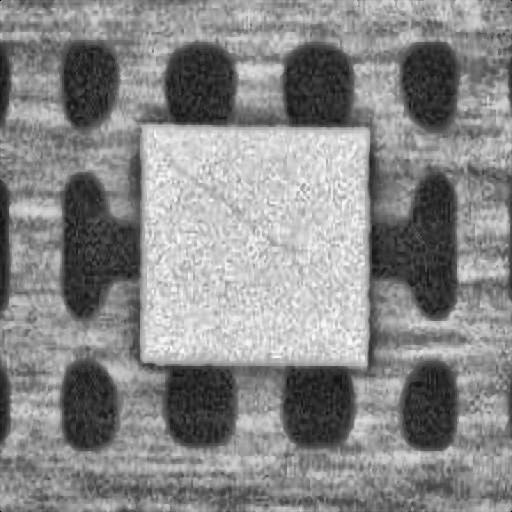DIE_CRACK: (145, 127, 296, 263)
